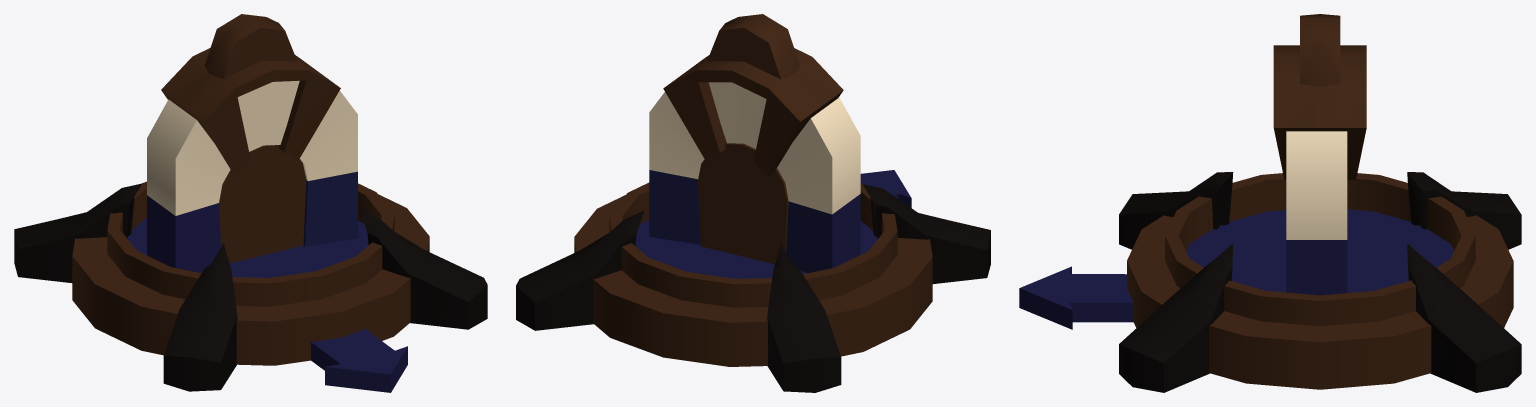
The model's file is Anim_Magnet_UniDir_Begin.fbx.
3 views of the same model, side by side, from view 1: azimuth 30°, elevation 25°; view 2: azimuth 150°, elevation 25°; view 3: azimuth 270°, elevation 25° (orthographic). The views are drawn at different scales.
Parts seen in each view (by area): view 1: Magnet_Uni_Socle, Magnet_Uni_Head, Magnet_Uni_BaseDetail, Magnet_Uni_Arrow; view 2: Magnet_Uni_Socle, Magnet_Uni_Head, Magnet_Uni_BaseDetail, Magnet_Uni_Arrow; view 3: Magnet_Uni_Socle, Magnet_Uni_Head, Magnet_Uni_Arrow.
Boxes of the visible parts, left/top/right/bottom form: Magnet_Uni_Socle: left=14, top=181, right=487, bottom=391; Magnet_Uni_Head: left=147, top=14, right=357, bottom=273; Magnet_Uni_BaseDetail: left=219, top=145, right=306, bottom=263; Magnet_Uni_Arrow: left=311, top=329, right=407, bottom=392; Magnet_Uni_Socle: left=516, top=182, right=990, bottom=392; Magnet_Uni_Head: left=649, top=14, right=860, bottom=273; Magnet_Uni_BaseDetail: left=698, top=143, right=788, bottom=264; Magnet_Uni_Arrow: left=860, top=170, right=911, bottom=207; Magnet_Uni_Socle: left=1119, top=172, right=1521, bottom=392; Magnet_Uni_Head: left=1273, top=14, right=1366, bottom=295; Magnet_Uni_Arrow: left=1019, top=266, right=1133, bottom=329.
Size of the model in its own units: 64.96 by 82.15 by 52.37.
